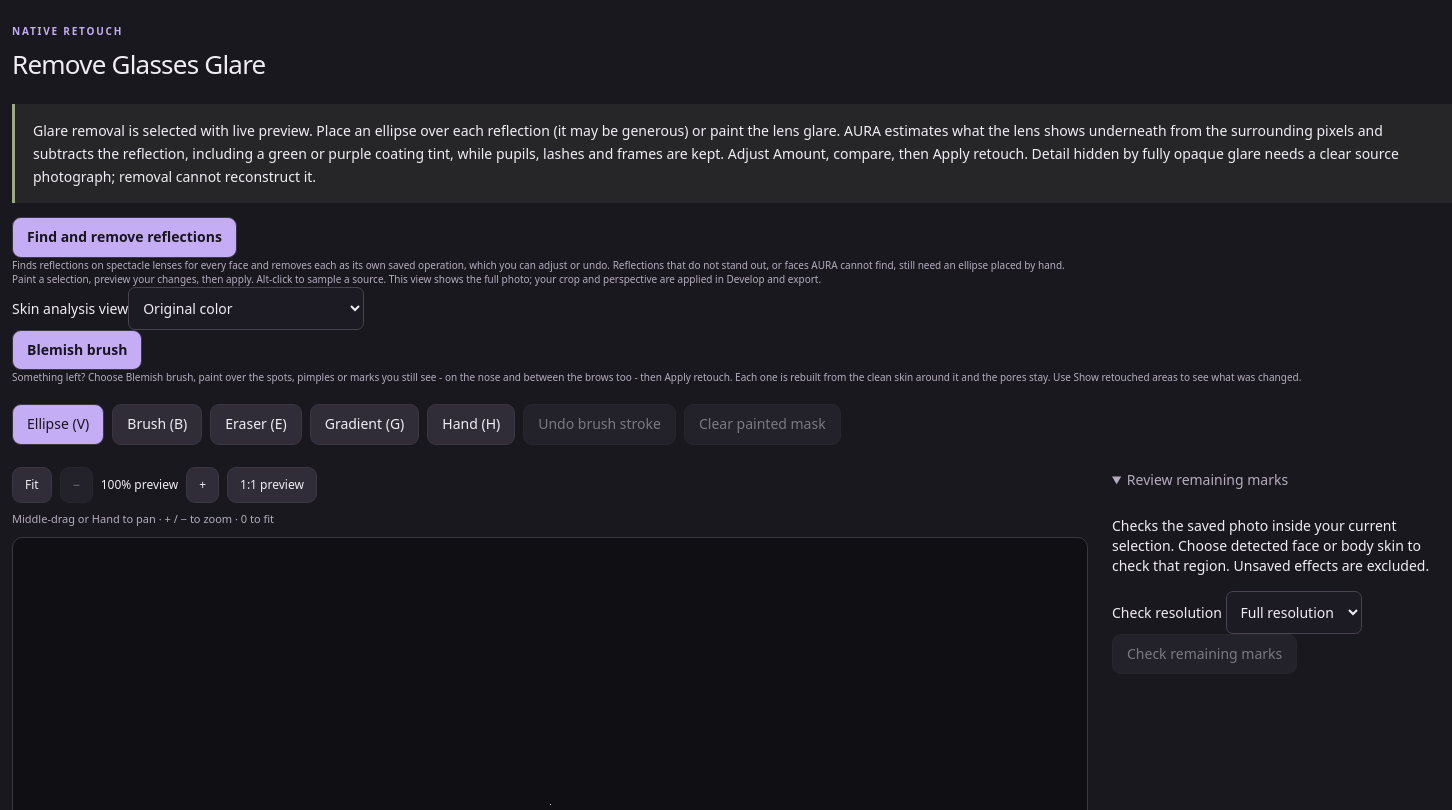
Test: finds lens reflections and saves one glare operation per lens in a single step
Click the button "Find and remove reflections".
click(124, 237)  # box [12, 217, 237, 258]
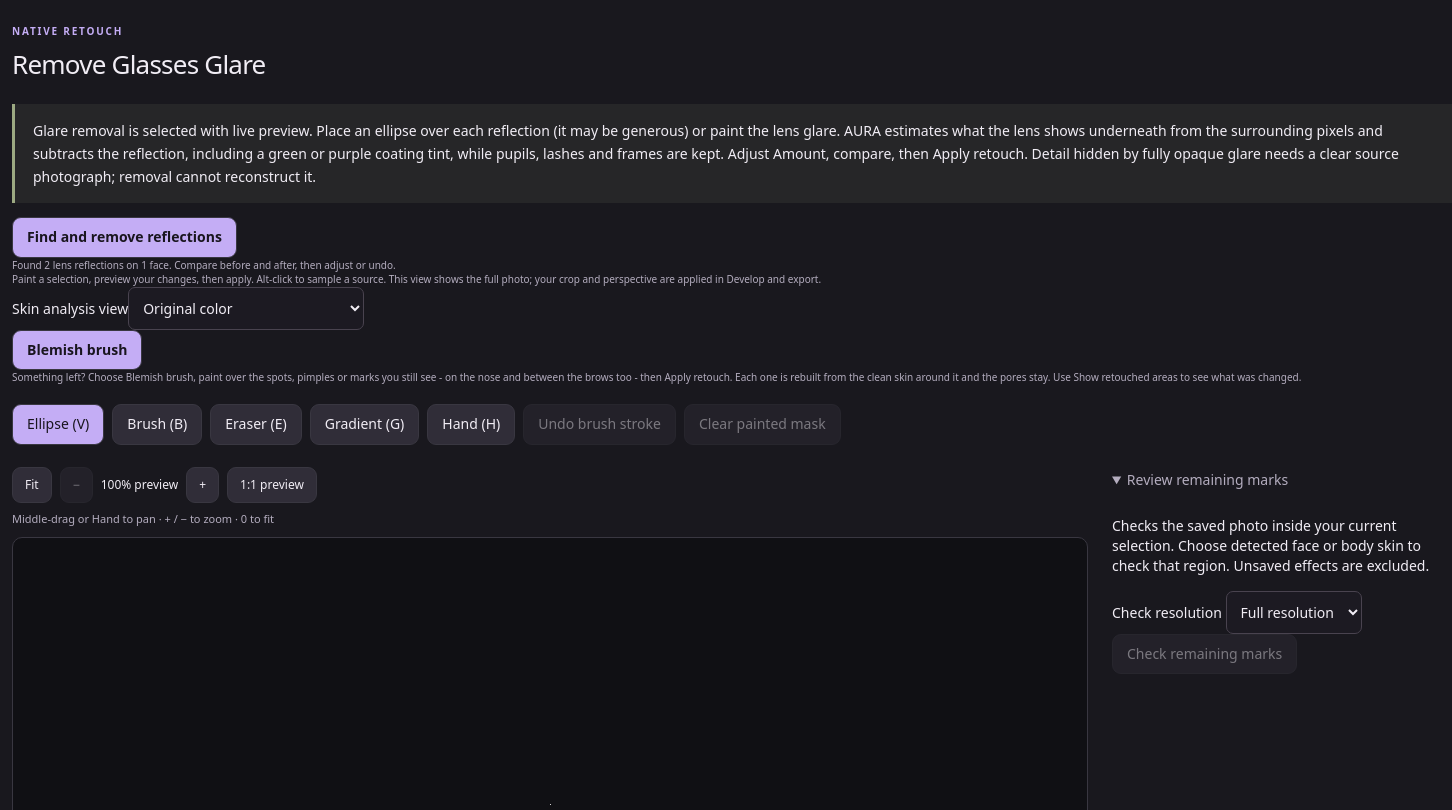
Result: the text "Found 2 lens reflections" is shown at [12, 258, 396, 272]
